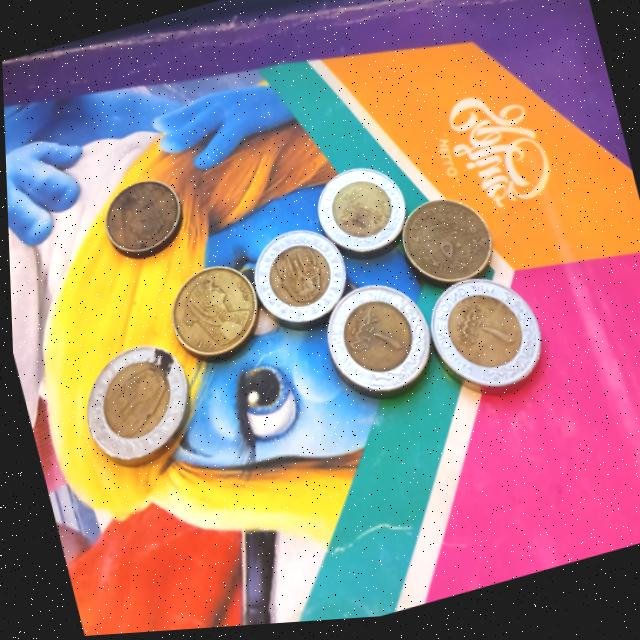Half Pound: (386, 185, 499, 300), (156, 258, 264, 371), (89, 169, 191, 269)
One Pound: (65, 334, 200, 476), (417, 268, 548, 414), (311, 280, 435, 408), (301, 158, 414, 274), (239, 220, 349, 335)
